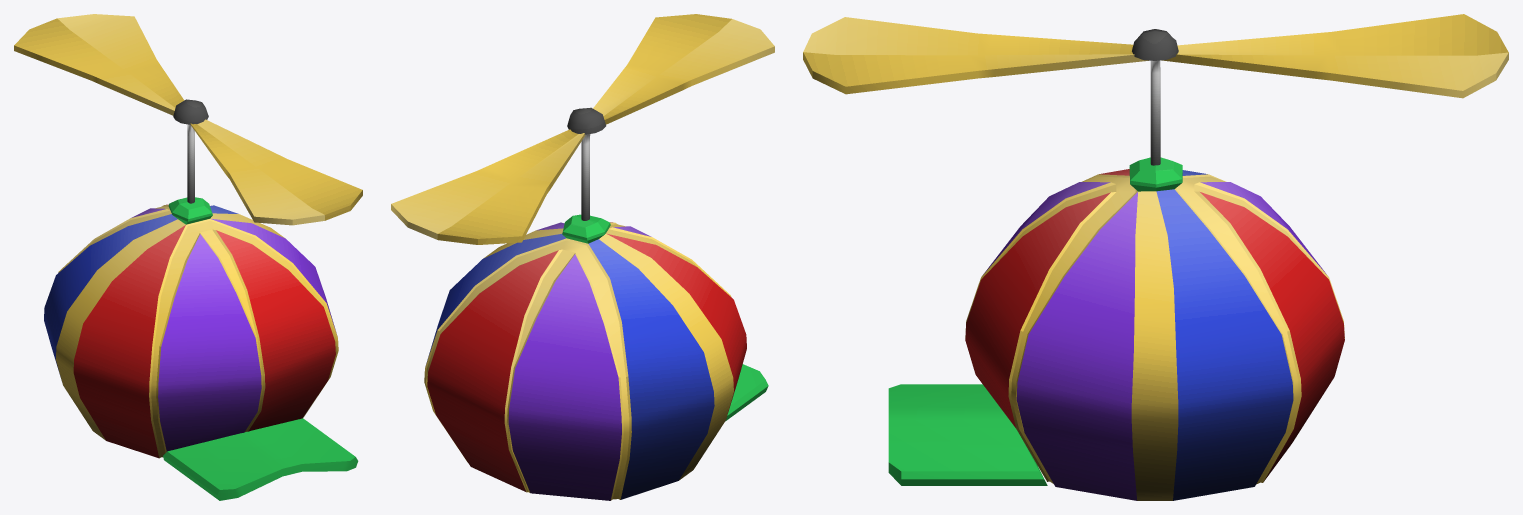
The model's file is hatPropeller.fbx.
3 views of the same model, side by side, from view 1: azimuth 30°, elevation 25°; view 2: azimuth 150°, elevation 25°; view 3: azimuth 270°, elevation 25° (orthographic). The views are drawn at different scales.
Parts seen in each view (by area): view 1: cap, propeller, brim; view 2: cap, propeller, brim; view 3: cap, propeller, brim.
Part boxes in pixels (box(x1,y1,x2,y2)): cap: box(44, 197, 338, 458); propeller: box(14, 14, 362, 225); brim: box(163, 418, 358, 500); cap: box(424, 214, 746, 500); propeller: box(391, 14, 774, 244); brim: box(725, 364, 768, 421); cap: box(965, 157, 1344, 500); propeller: box(803, 14, 1508, 165); brim: box(888, 384, 1047, 485).
Bounding box in the file's own units: 63.86 × 75.24 × 117.
